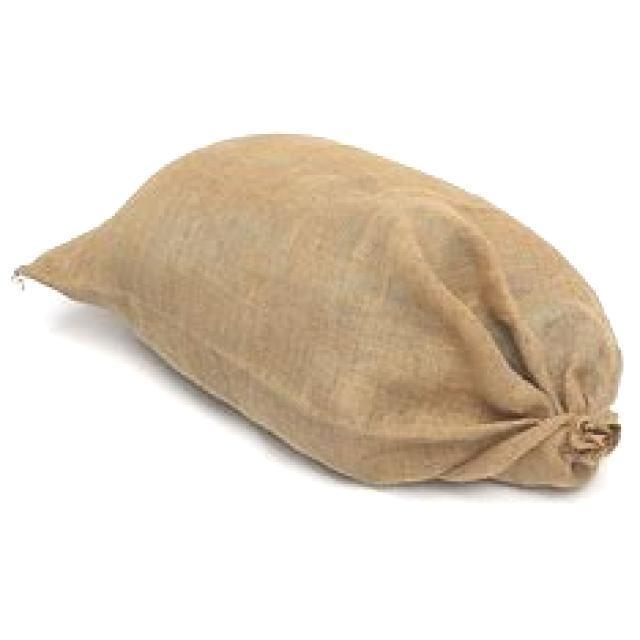gunny_bag: (16, 124, 629, 497)
